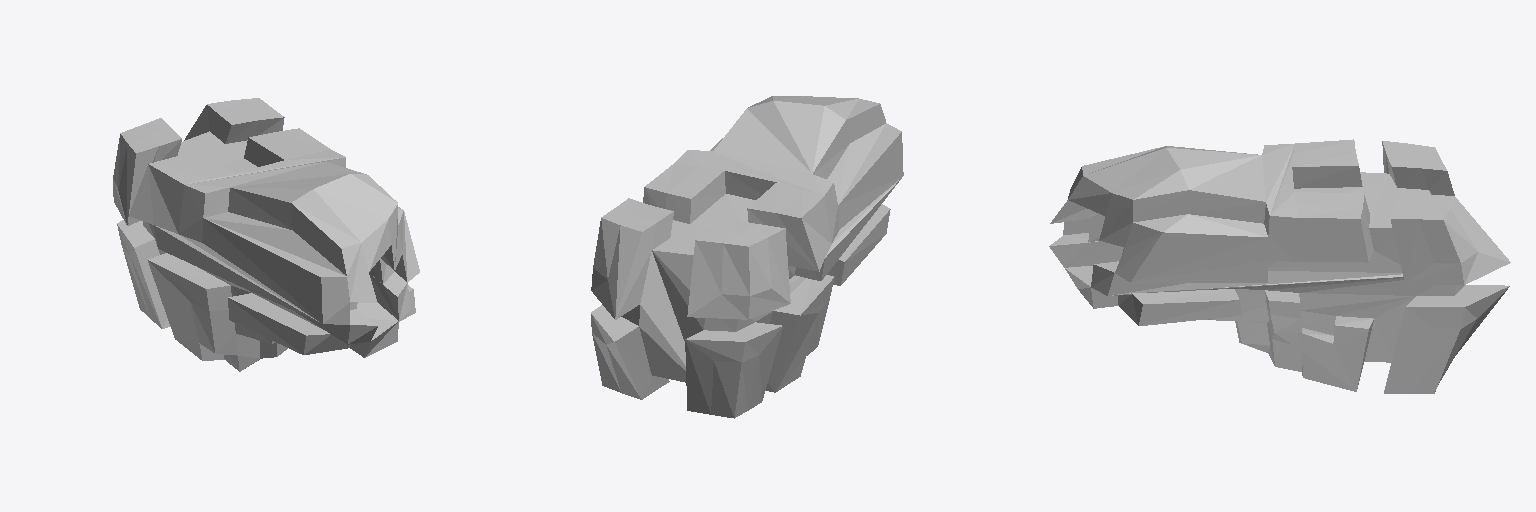
The model's file is RocketBot_LOD0-1.obj.
3 views of the same model, side by side, from view 1: azimuth 30°, elevation 25°; view 2: azimuth 150°, elevation 25°; view 3: azimuth 270°, elevation 25° (orthographic).
Visible parts, largest first — view 1: RocketBot_LOD0-1; view 2: RocketBot_LOD0-1; view 3: RocketBot_LOD0-1.
Part boxes in pixels (bbox=[...]): RocketBot_LOD0-1: bbox=[113, 98, 419, 371]; RocketBot_LOD0-1: bbox=[591, 96, 903, 418]; RocketBot_LOD0-1: bbox=[1049, 139, 1510, 393].
Size of the model in its own units: 0.8791 by 1.02 by 1.97.